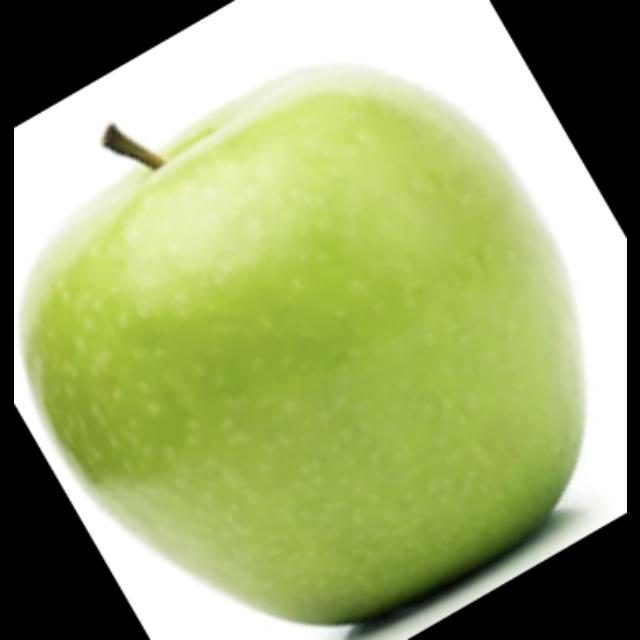Apel Segar: (17, 48, 593, 636)
